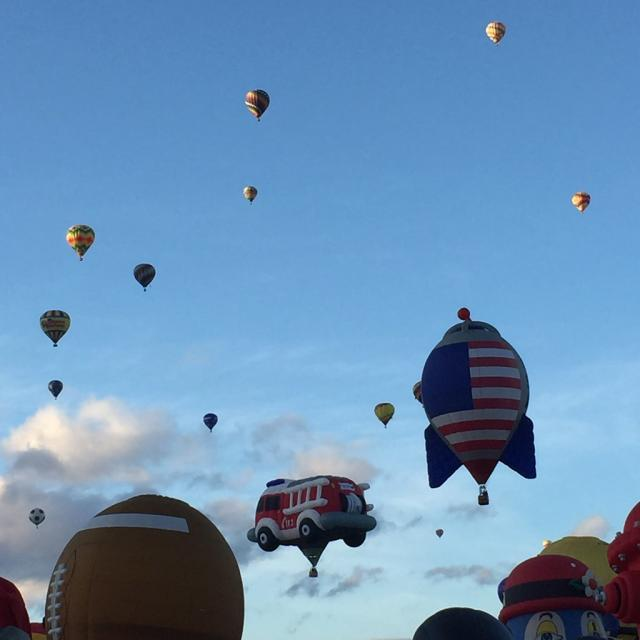balloon: (45, 495, 249, 640), (420, 301, 542, 520), (240, 87, 273, 131), (64, 228, 104, 264), (39, 306, 75, 346), (133, 261, 158, 294), (485, 17, 509, 51), (375, 401, 397, 431), (204, 410, 225, 437), (29, 507, 50, 534), (573, 189, 593, 217), (48, 378, 67, 400)
